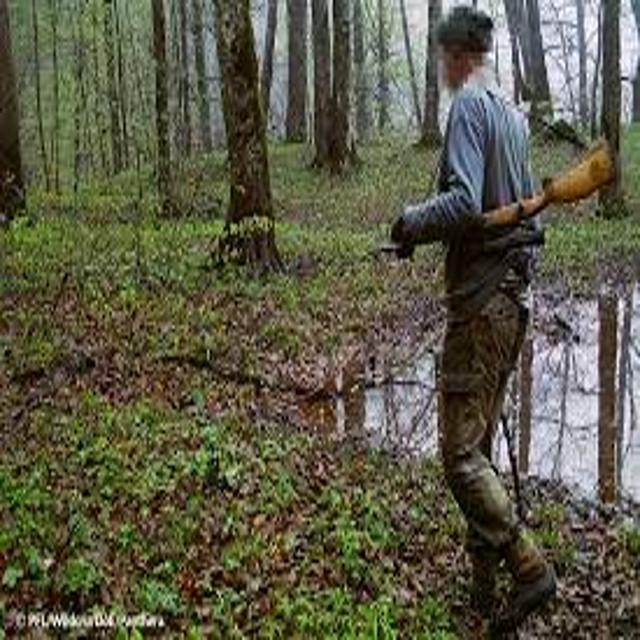gun: (340, 123, 638, 289)
poacher: (323, 1, 627, 638)
